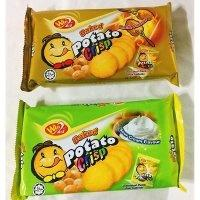snack: (10, 92, 188, 200), (20, 2, 181, 92)
